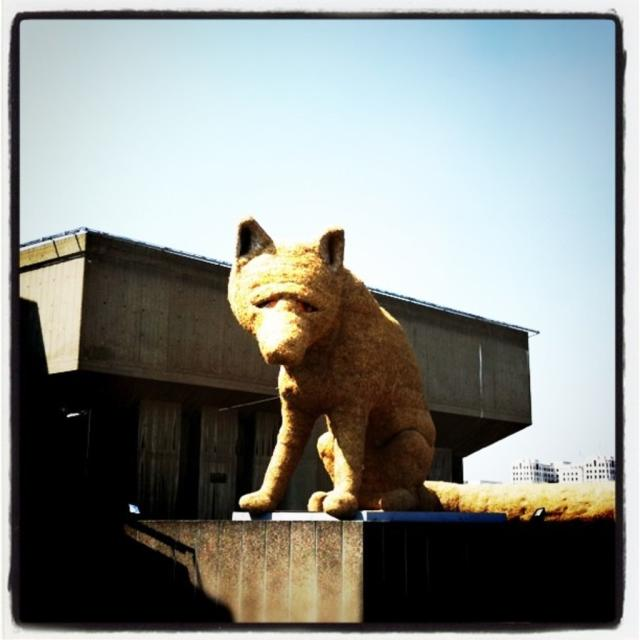Bear: (227, 216, 445, 525)
